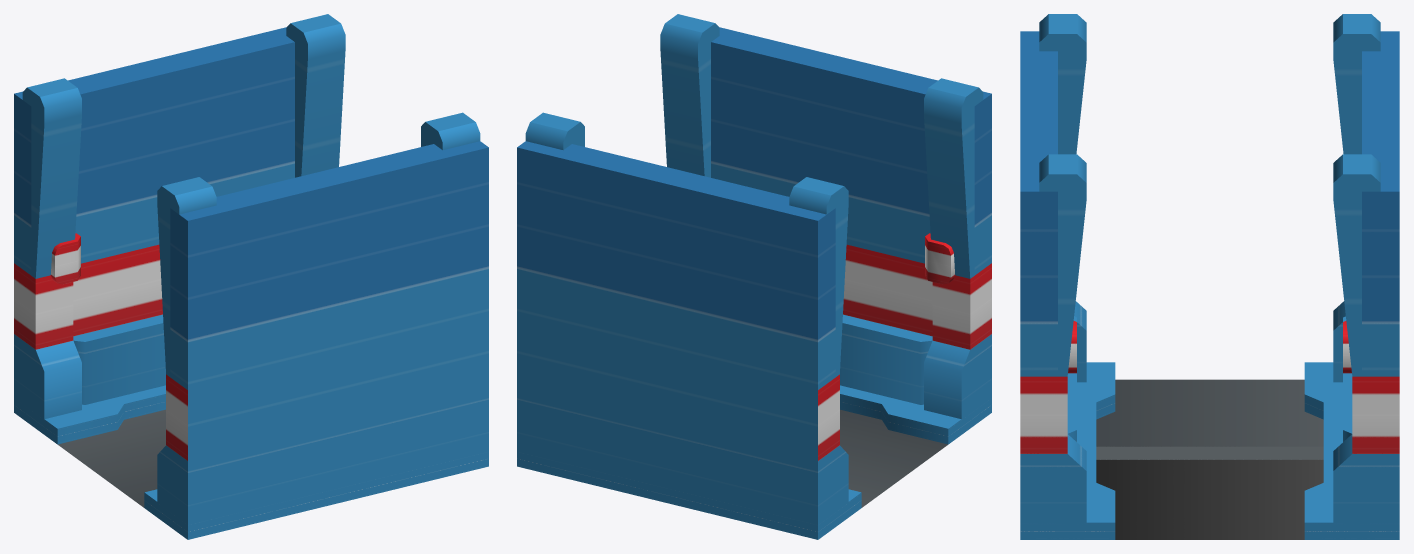
The model's file is corridor_wall.glb.
3 views of the same model, side by side, from view 1: azimuth 30°, elevation 25°; view 2: azimuth 150°, elevation 25°; view 3: azimuth 270°, elevation 25° (orthographic). The views are drawn at different scales.
Visible parts, largest first — view 1: corridor; view 2: corridor; view 3: corridor.
Part boxes in pixels (x1,y1,x2,y2): corridor: [14, 14, 488, 539]; corridor: [517, 14, 991, 539]; corridor: [1020, 14, 1399, 539].
Size of the model in its own units: 4 by 4.25 by 4.
1 material, 1 textured.
